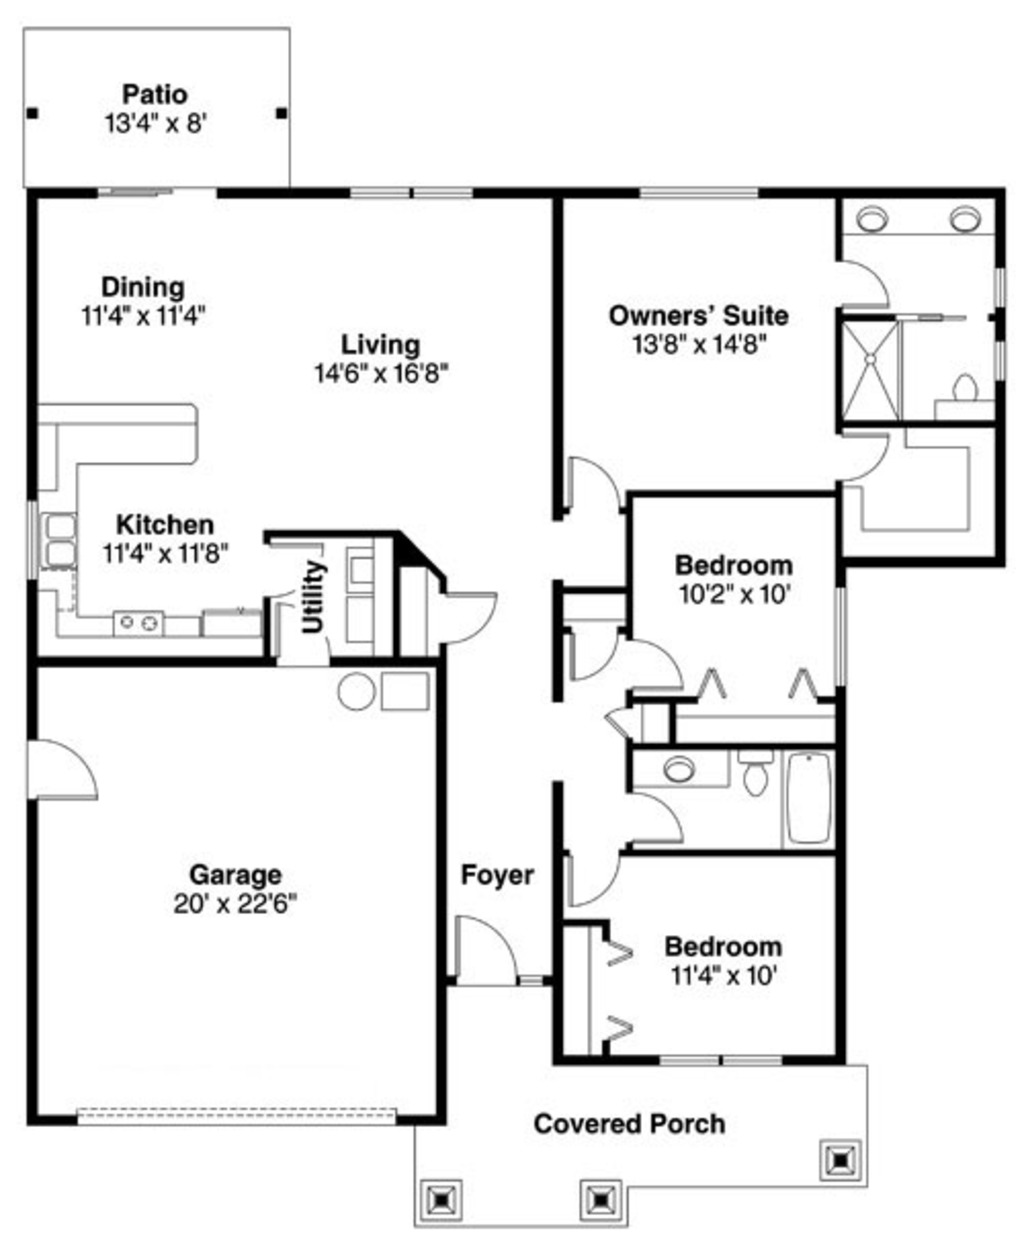door: (14, 730, 111, 812), (443, 912, 526, 997), (553, 847, 632, 924), (437, 587, 510, 657), (835, 420, 893, 505), (618, 785, 687, 853), (834, 257, 903, 318), (264, 541, 339, 597), (564, 628, 626, 691), (562, 458, 626, 518), (630, 635, 693, 695)
large_sink: (935, 368, 995, 428), (732, 741, 774, 805)
small_sink: (841, 189, 1010, 233), (623, 743, 721, 785)
tub: (776, 737, 839, 866)
twin_sink: (43, 505, 97, 578)
window: (341, 176, 480, 208), (635, 176, 766, 208), (659, 1045, 785, 1074), (987, 258, 1012, 382)
